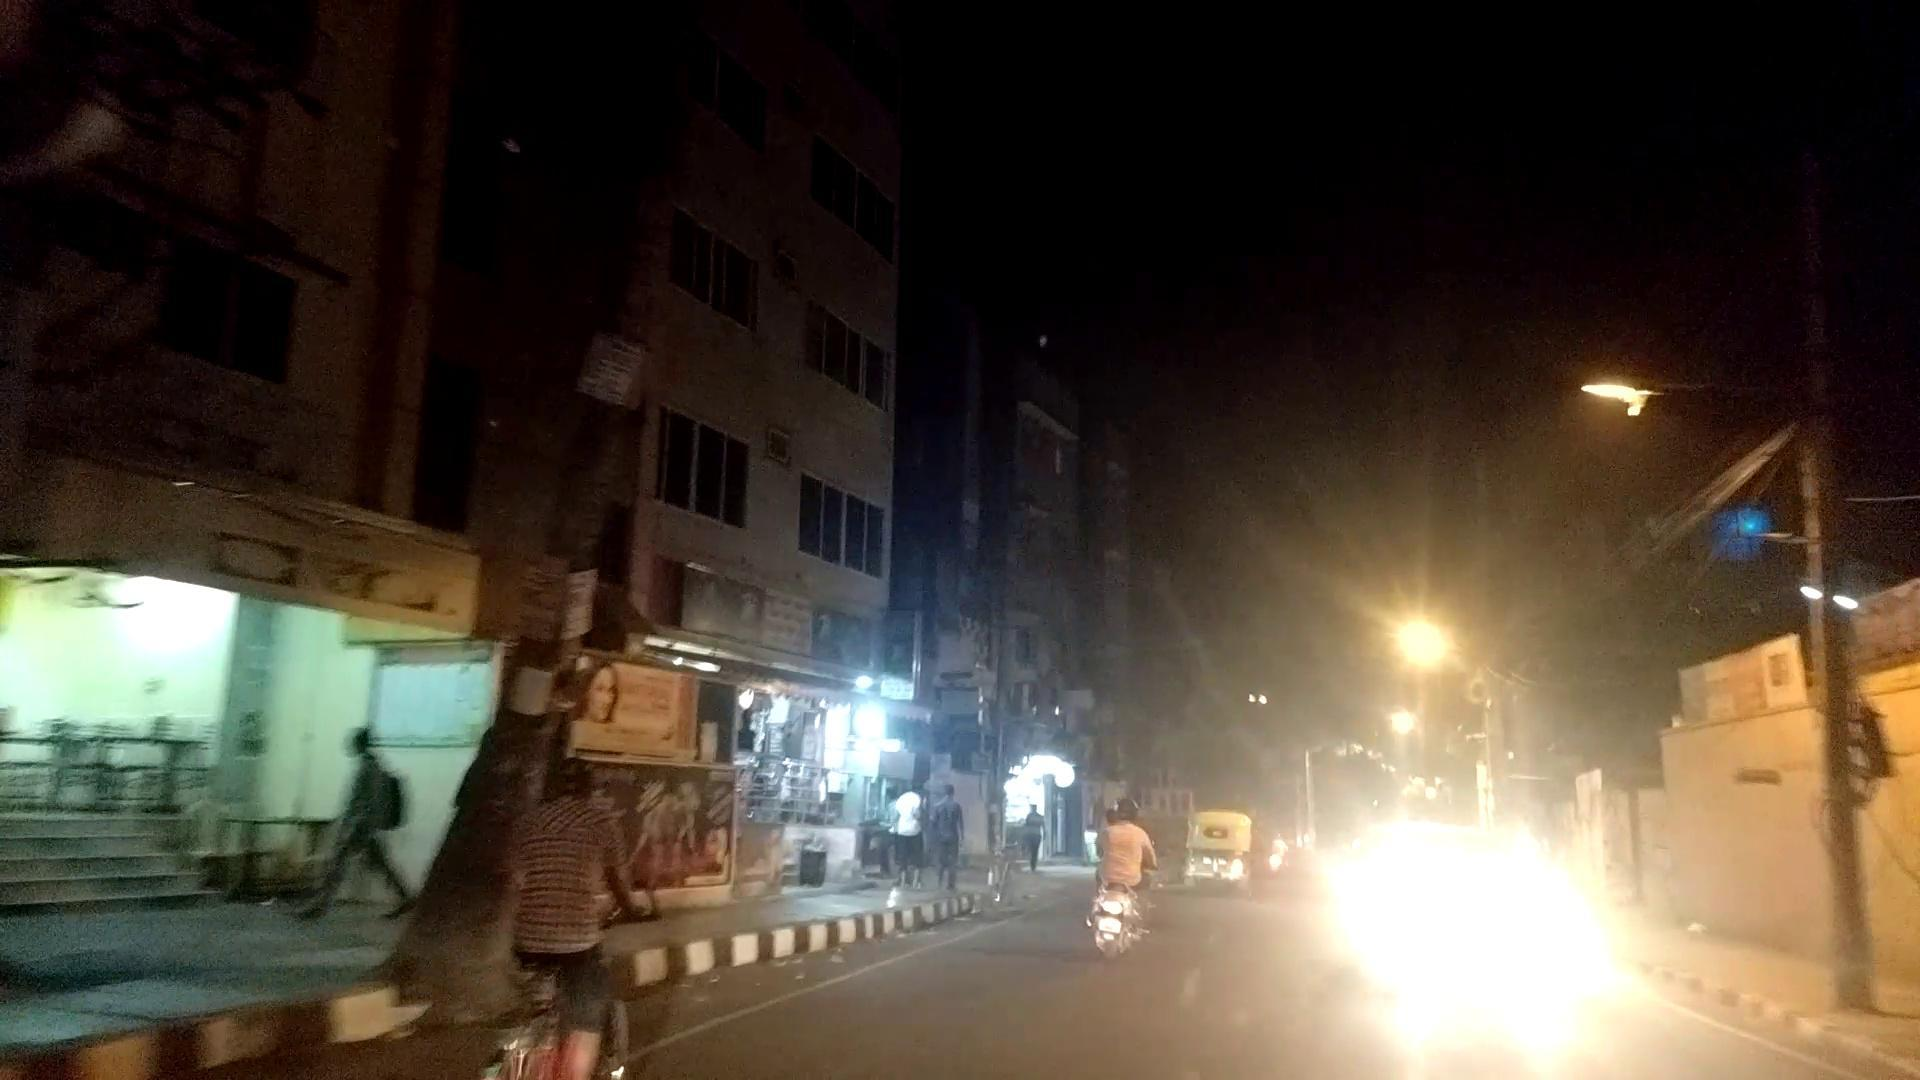on: (1320, 442, 1623, 795)
